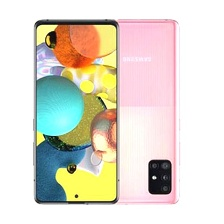phone: (90, 16, 185, 210), (29, 15, 121, 207)
